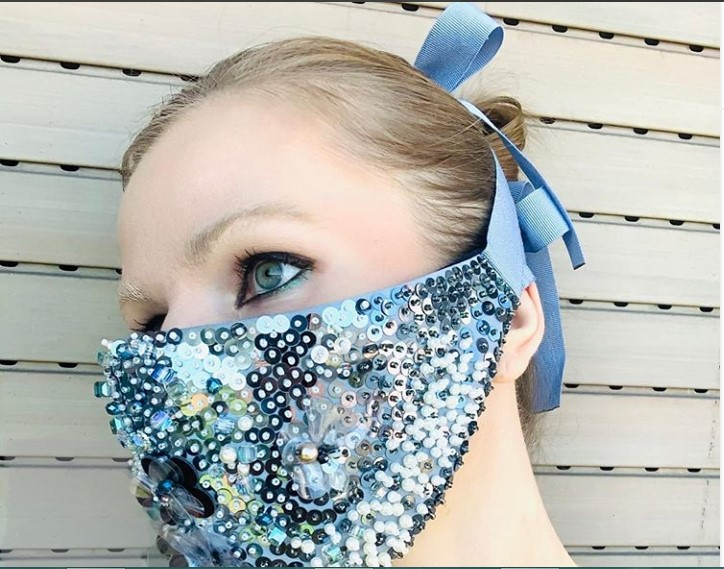face_with_mask: (91, 43, 543, 564)
